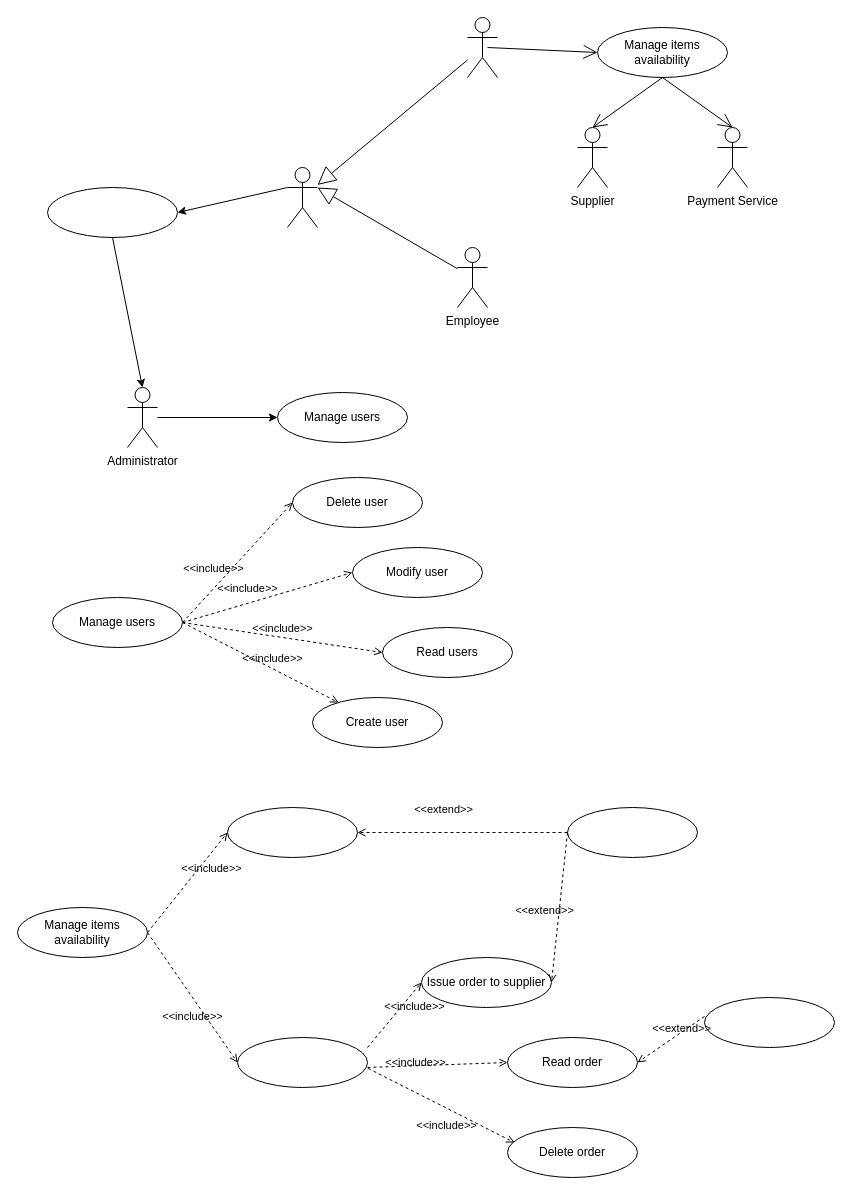
The diagram is 852 pixels wide and 1195 high, and some of its shapes have lost their labels. The centre of each missing label's shape, as x and y in pixels:
Check all suppliers per item: (632,832)
Check items availabilty: (292,832)
Manage orders: (302,1062)
Manager: (482,47)
Modify user account: (112,212)
Track position: (769,1022)
User: (302,197)
